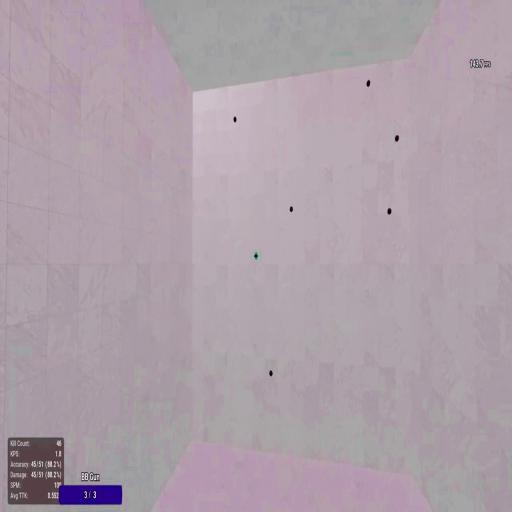Crosshair: (254, 251, 258, 260)
Target: (386, 207, 392, 215), (395, 134, 399, 143), (289, 205, 294, 212), (233, 116, 237, 122), (269, 370, 273, 376)
